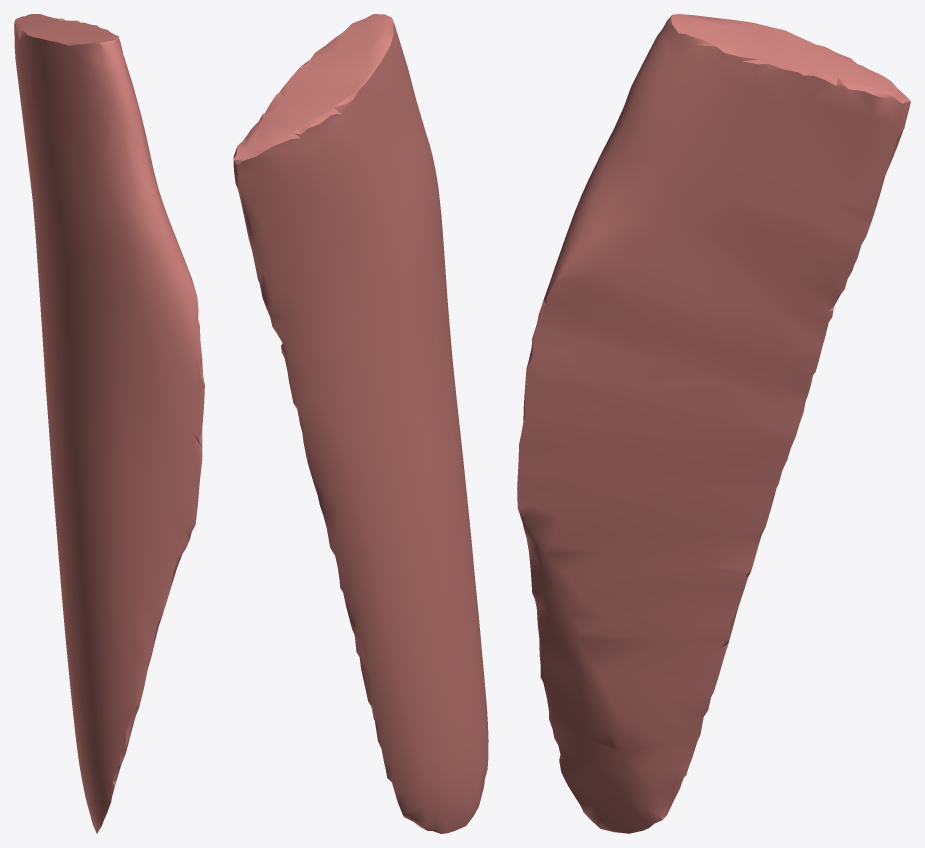
Rendered from fma49249_mm1844.glb.
3 views of the same model, side by side, from view 1: azimuth 30°, elevation 25°; view 2: azimuth 150°, elevation 25°; view 3: azimuth 270°, elevation 25° (orthographic). The views are drawn at different scales.
Visible parts, largest first — view 1: FMA49249_MM1844; view 2: FMA49249_MM1844; view 3: FMA49249_MM1844.
Part boxes in pixels (x1=…): FMA49249_MM1844: x1=14, y1=14, x2=204, y2=833; FMA49249_MM1844: x1=233, y1=14, x2=488, y2=833; FMA49249_MM1844: x1=517, y1=14, x2=910, y2=833.
Bounding box in the file's own units: 0.0069 × 0.0576 × 0.0246.
